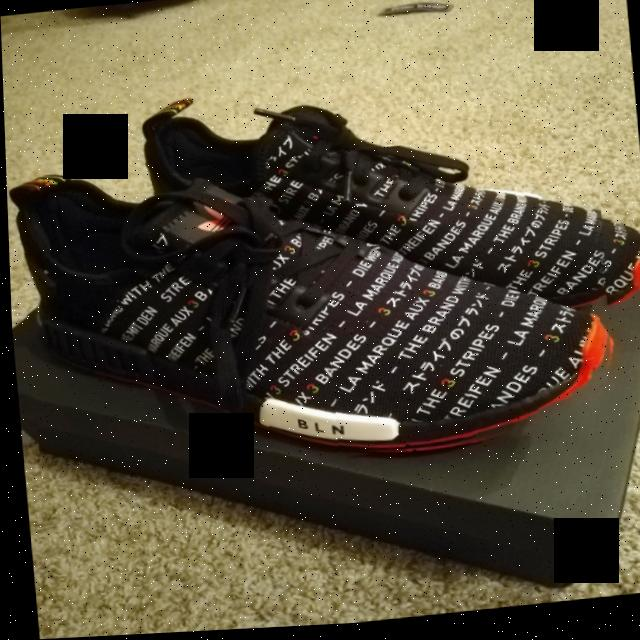shoe: (14, 131, 620, 494), (148, 71, 640, 354)
